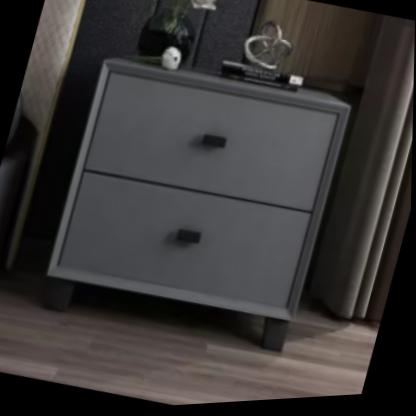Nightstand: (31, 37, 362, 378)
